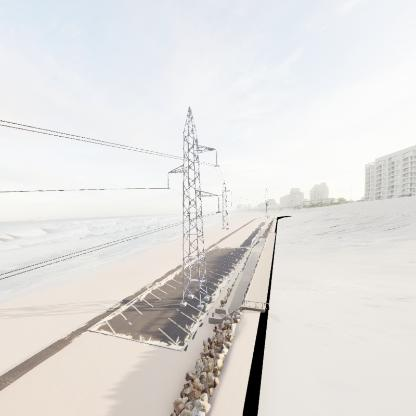tower: (160, 102, 223, 316)
